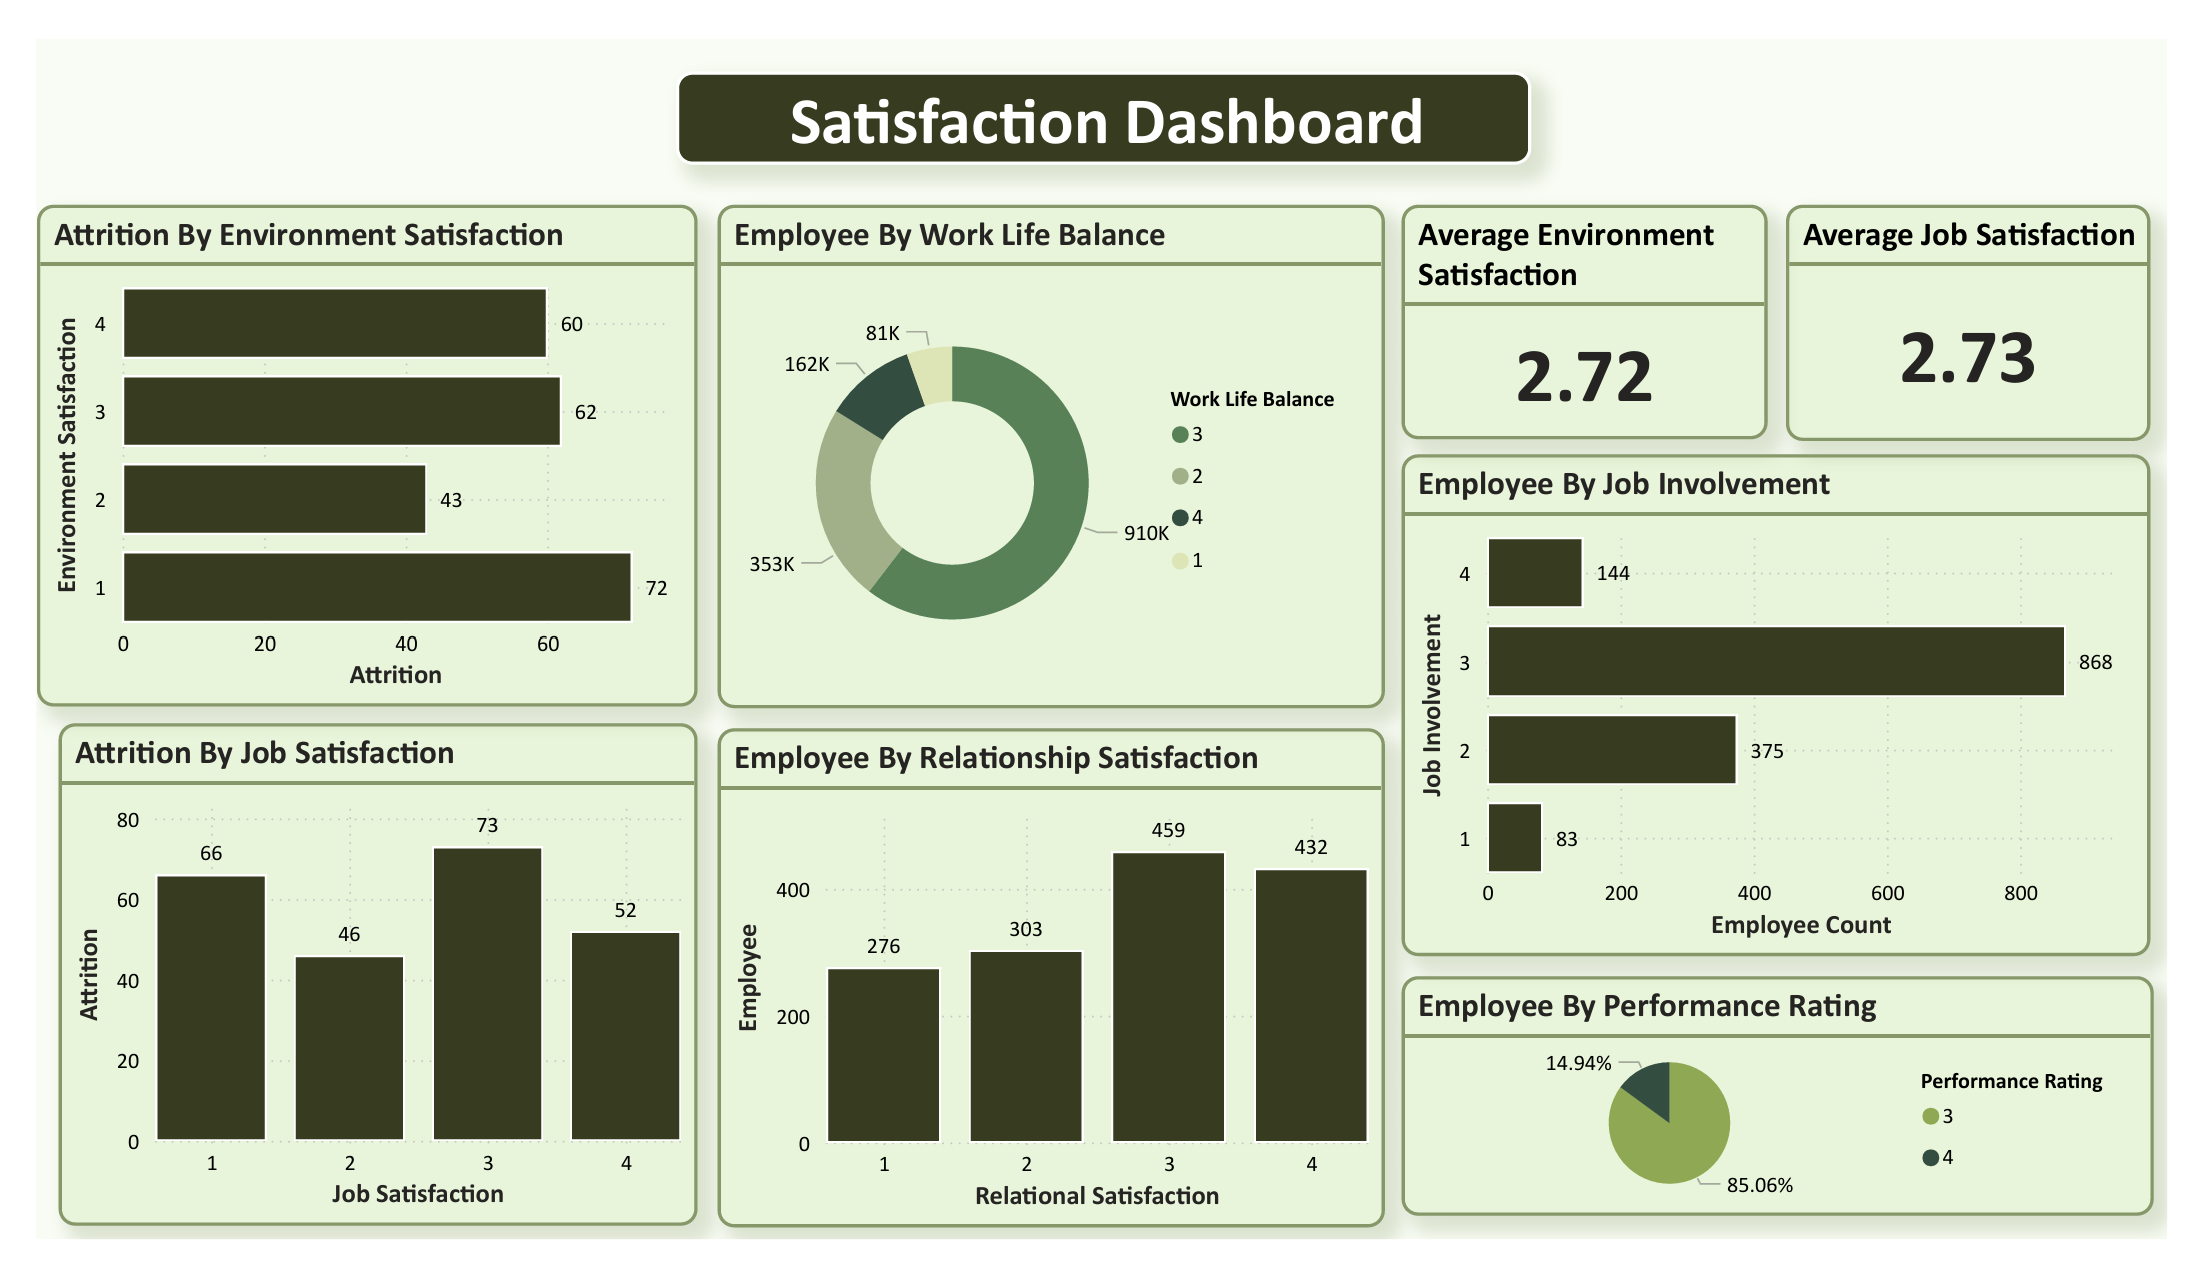

What the dashboard file says about the page in this screenshot:
{"tool":"powerbi","page":{"name":"Satisfaction Dashboard","canvas":[1280,720],"ordinal":2},"visuals":[{"type":"textbox","title":"Satisfaction Dashboard","box":[384.1,19.1,514.1,56.1],"z":0},{"type":"columnChart","title":"Attrition By Job Satisfaction","fields":{"Category":["HR data.Job Satisfaction"],"Y":["HR data.attrition_count"]},"box":[13.1,410.4,384.1,301.8],"z":1000},{"type":"barChart","title":"Attrition By Environment Satisfaction","fields":{"Category":["HR data.Environment Satisfaction"],"Y":["HR data.attrition_count"]},"box":[0,99,397.2,300.6],"z":2000},{"type":"columnChart","title":"Employee By Relationship Satisfaction","fields":{"Category":["HR data.Relationship Satisfaction"],"Y":["HR data.Total_emp"]},"box":[409.2,412.7,400.8,300.6],"z":3000},{"type":"pieChart","title":"Employee By Performance Rating","fields":{"Category":["HR data.Performance Rating"],"Y":["Sum(HR data.Employee Number)"]},"box":[820,561,452,153],"z":4000},{"type":"donutChart","title":"Employee By Work Life Balance","fields":{"Category":["HR data.Work Life Balance"],"Y":["Sum(HR data.Employee Number)"]},"box":[409.2,99,400.8,301.8],"z":5000},{"type":"barChart","title":"Employee By Job Involvement","fields":{"Category":["HR data.Job Involvement"],"Y":["HR data.Total_emp"]},"box":[819.5,249.3,450.9,300.6],"z":6000},{"type":"card","title":"Average Job Satisfaction","fields":{"Values":["HR data.avg_satisfaction"]},"box":[1051,99,219.5,142],"z":7000},{"type":"card","title":"Average Environment Satisfaction","fields":{"Values":["HR data.avg_envi_satisfaction"]},"box":[819.5,99,220.7,140.8],"z":8000}]}

Visuals, with their boxes in screenshot pixels (x1, y1, x2, y2), scaled from the page's 1280x720 canvas onto the 2202x1272 screenshot:
"Satisfaction Dashboard" textbox: 661 34 1545 133
"Attrition By Job Satisfaction" columnChart: 23 725 683 1258
"Attrition By Environment Satisfaction" barChart: 0 175 683 706
"Employee By Relationship Satisfaction" columnChart: 704 729 1393 1260
"Employee By Performance Rating" pieChart: 1411 991 2188 1261
"Employee By Work Life Balance" donutChart: 704 175 1393 708
"Employee By Job Involvement" barChart: 1410 440 2185 971
"Average Job Satisfaction" card: 1808 175 2186 426
"Average Environment Satisfaction" card: 1410 175 1789 424
